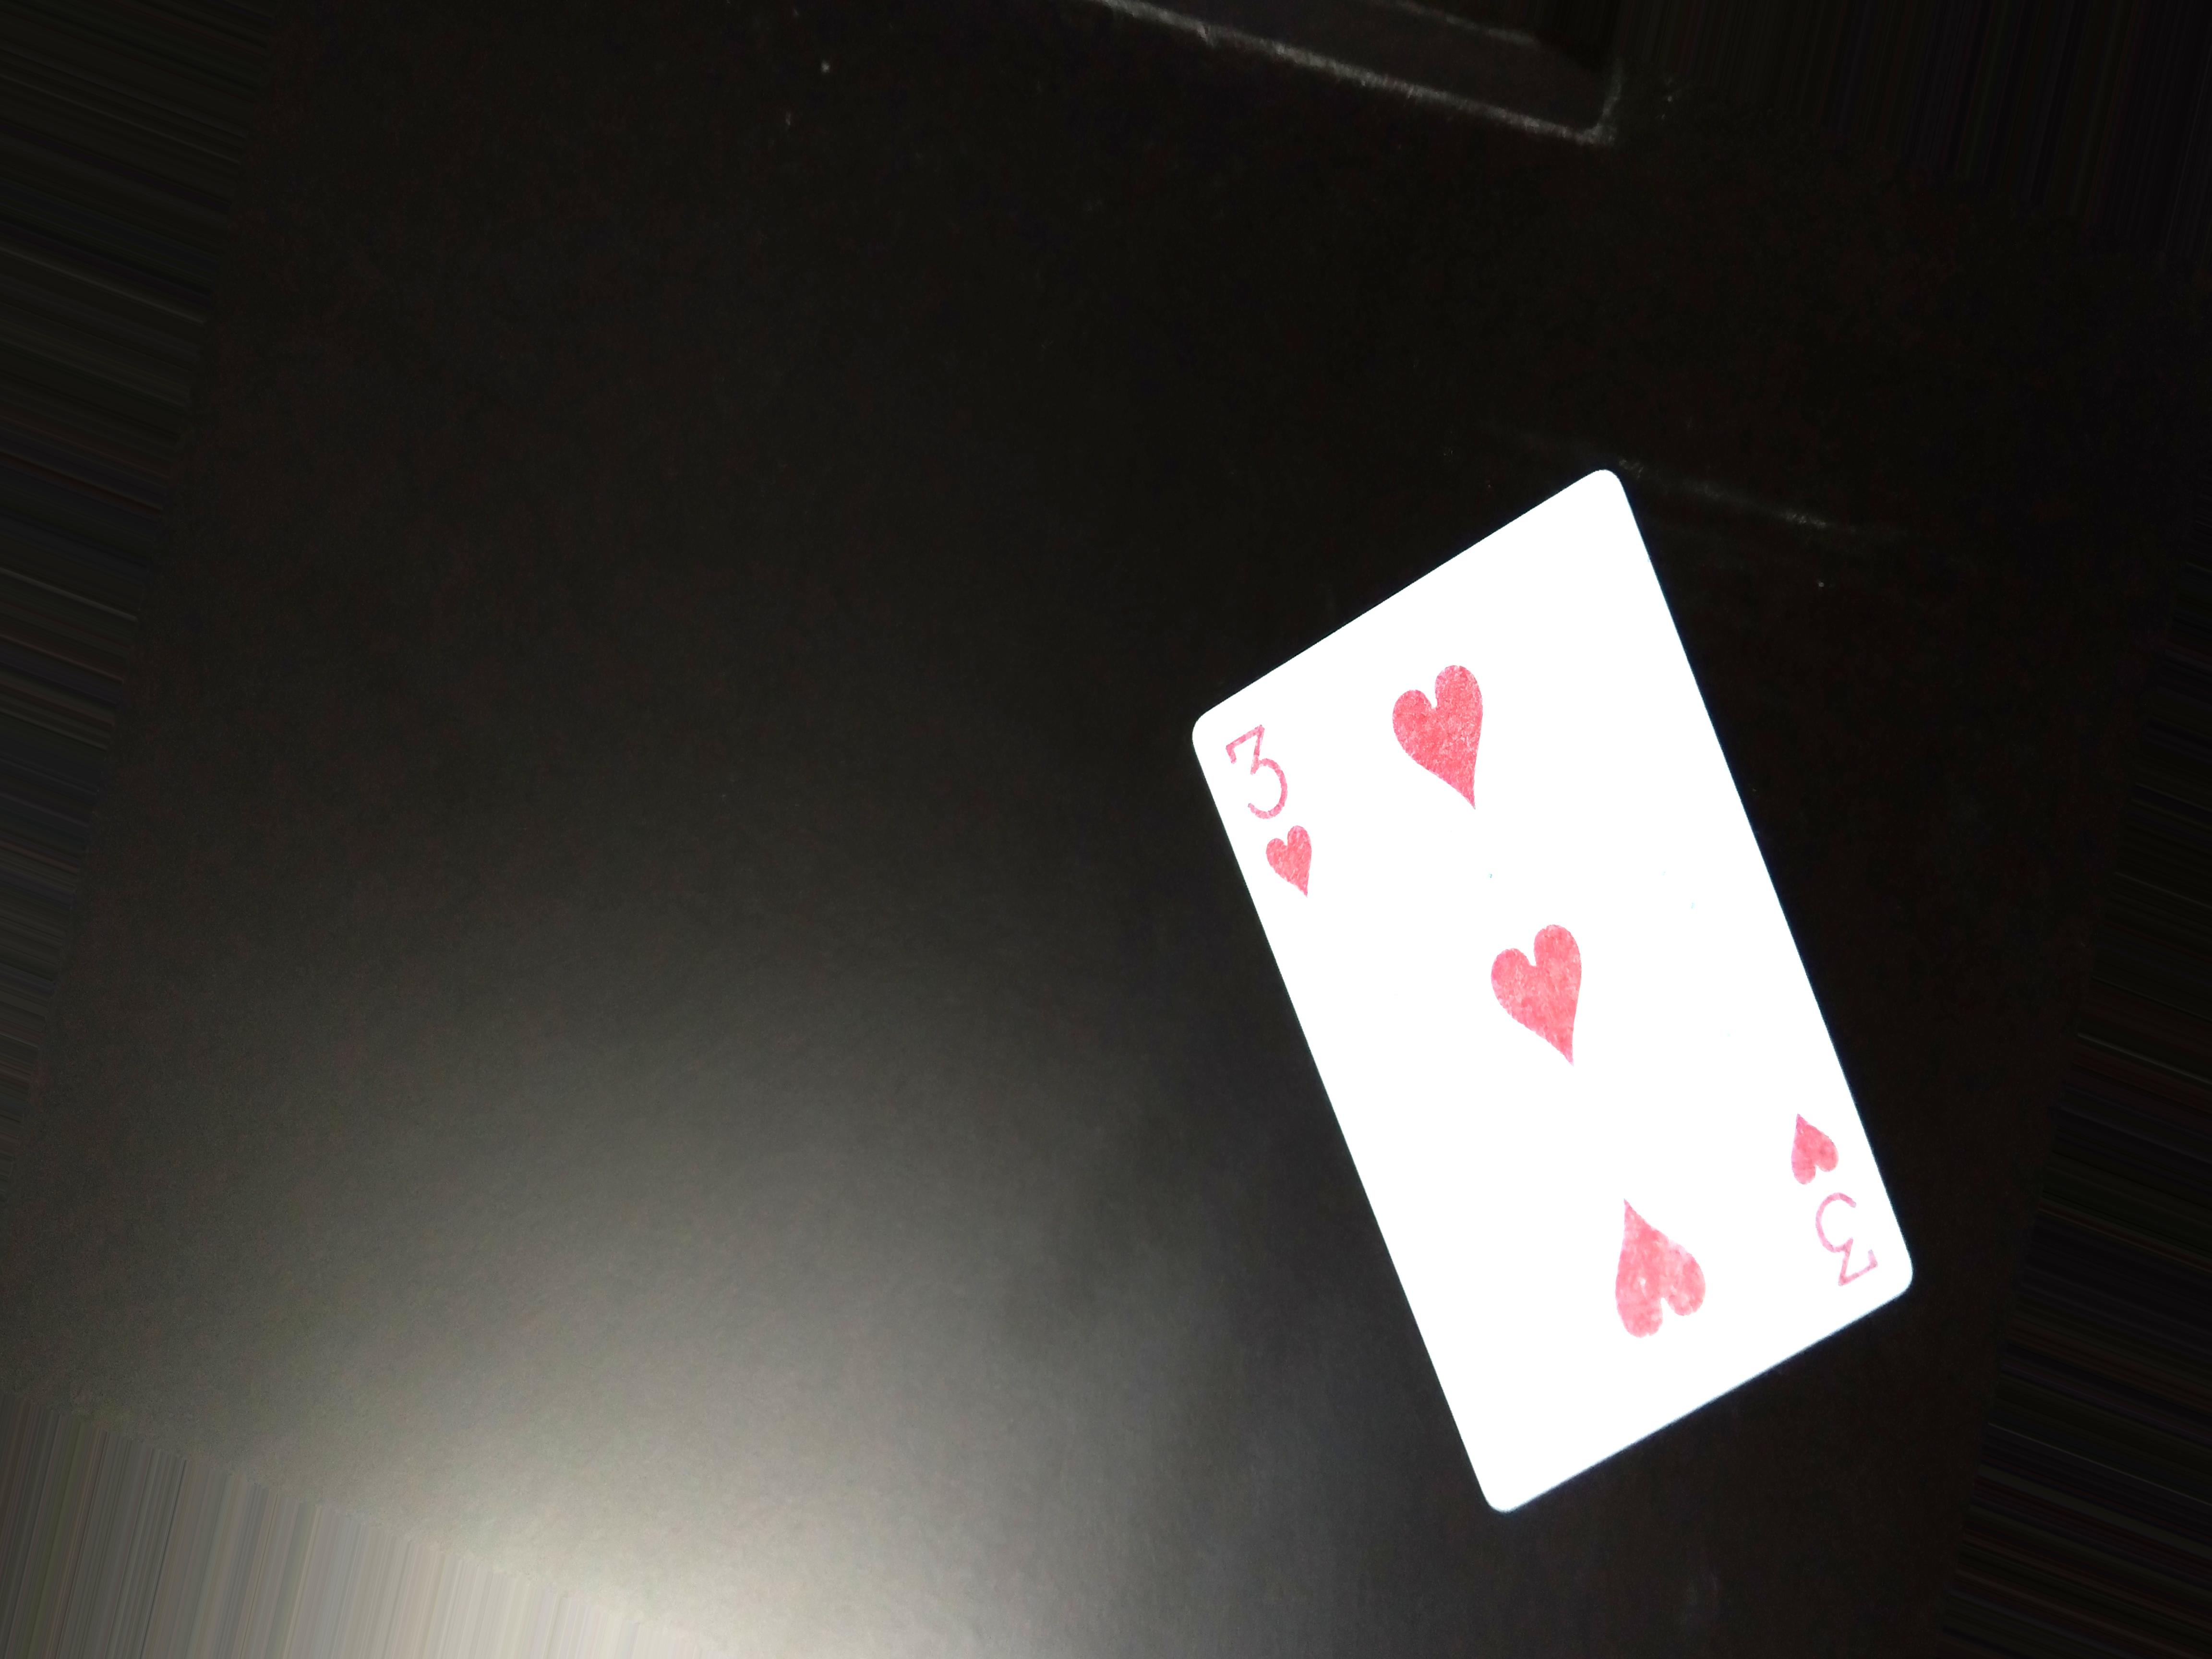3H: (1212, 716, 1322, 894)
